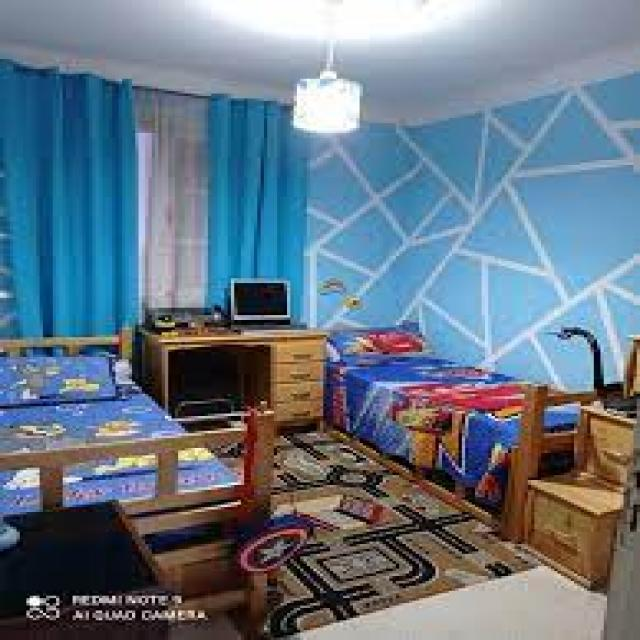bed: (3, 330, 260, 519), (340, 336, 620, 460)
computer: (200, 280, 312, 341)
desk: (137, 309, 336, 420)
